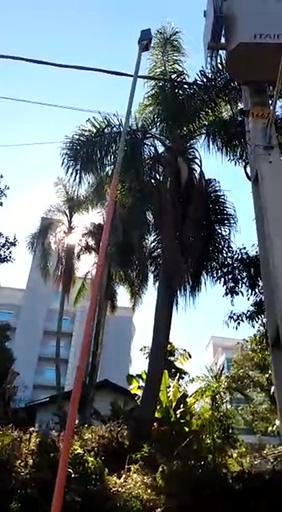Vara_Manobra: (50, 51, 144, 512)
